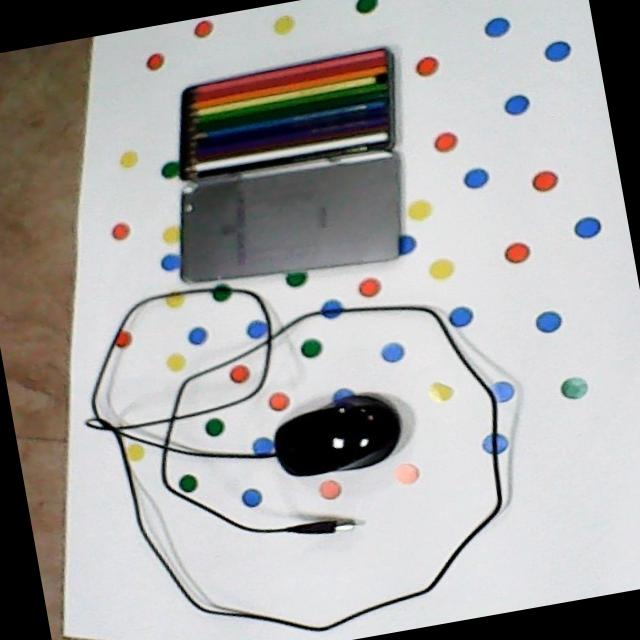color: (173, 35, 412, 182)
mouse: (269, 387, 407, 484)
